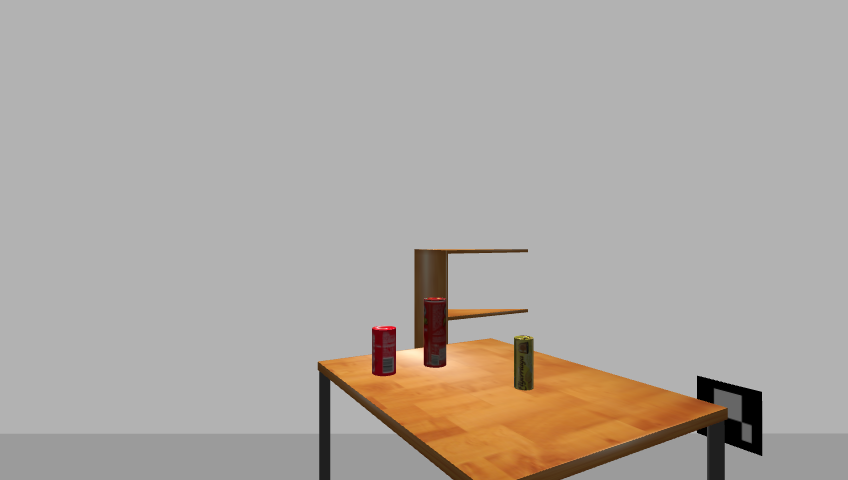aruco marker: (691, 375, 768, 457)
biscuits pack: (513, 335, 535, 393)
bookshelf: (408, 242, 533, 406)
coke can: (371, 325, 398, 377)
dinner table: (310, 338, 732, 480)
pringles can: (421, 297, 448, 369)
